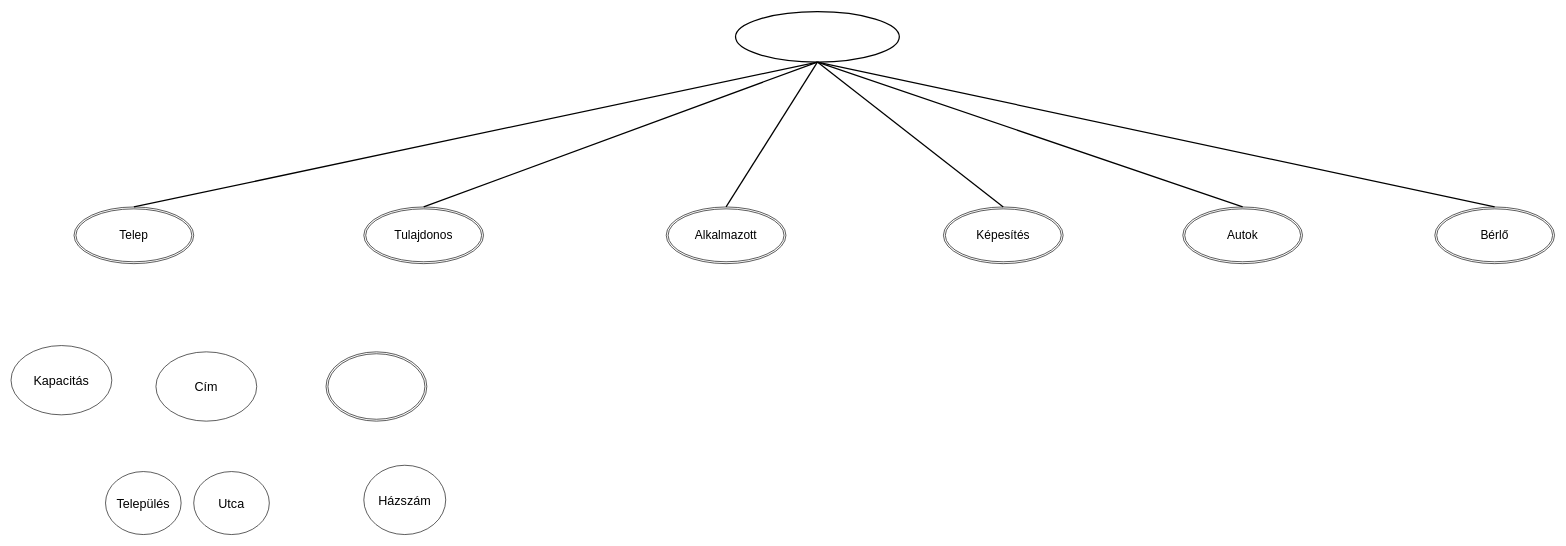
The diagram is 1566 pixels wide and 546 high, and some of its shapes have lost their labels. The shapes that lost their labels are listed below. From the top down, each one's centre as x and y in pixels, then its label:
pixel 817 36: H2Z4X3_Autokolcsonzo
pixel 376 386: Beosztás
